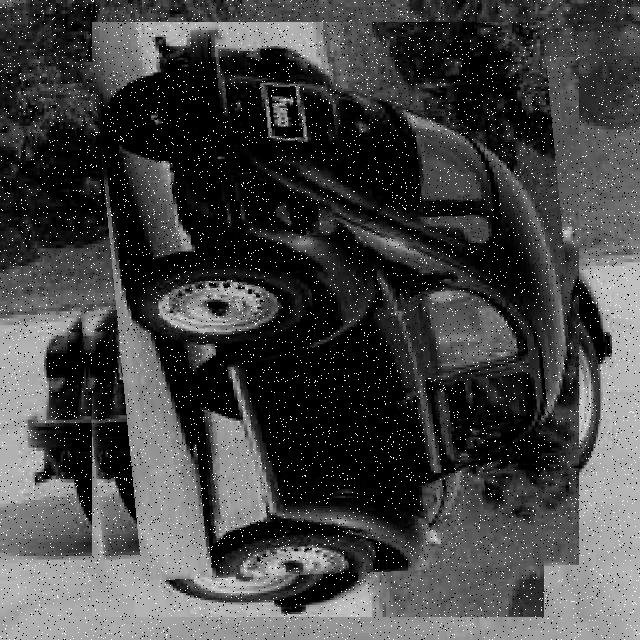car: (57, 58, 580, 583)
